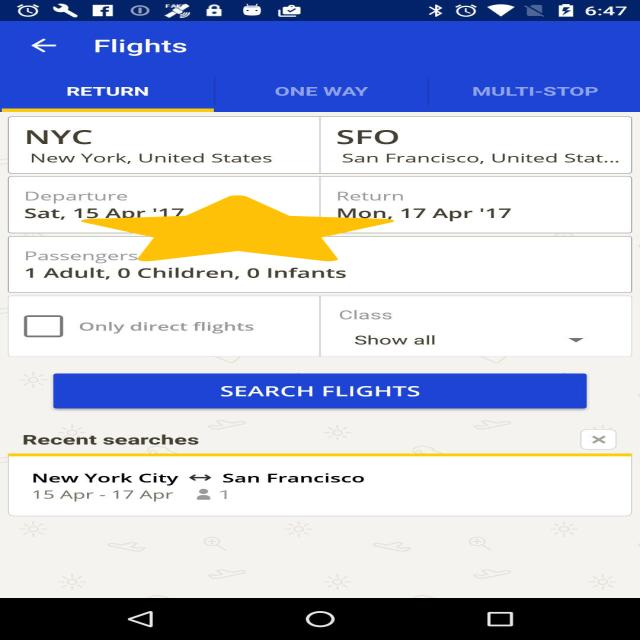forced continuity: (81, 196, 394, 262)
